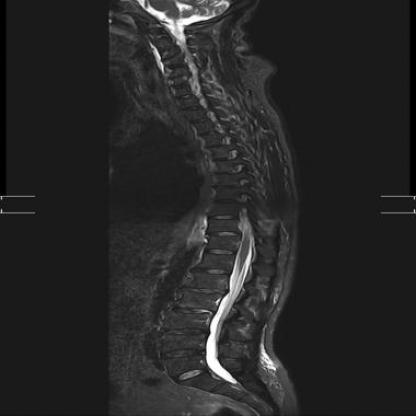Annular Tearrotation: (160, 342, 206, 363)
Disc Bulgerotation: (161, 343, 207, 363), (168, 305, 212, 319), (161, 325, 207, 337)
Disc Protrusionrotation: (186, 283, 224, 299), (162, 49, 181, 61)
